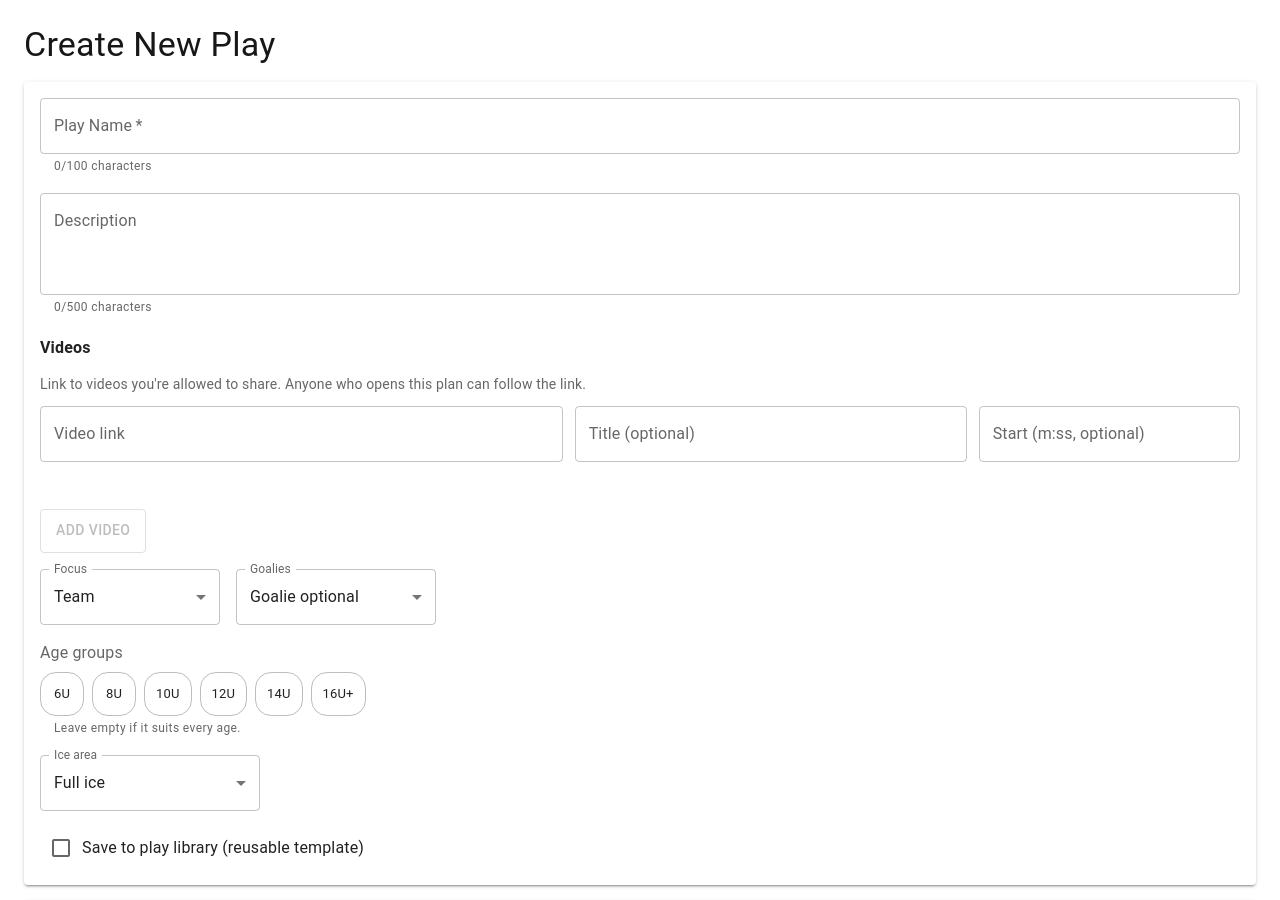
Test: PlayEditor › Save Functionality › shows success message after successful save
This screenshot has width=1280, height=900.
# Fill in form
Step 1. Type "Test Play" into the field labelled "Play Name *" → (640, 126), box [40, 98, 1240, 154]
(page scrolled)
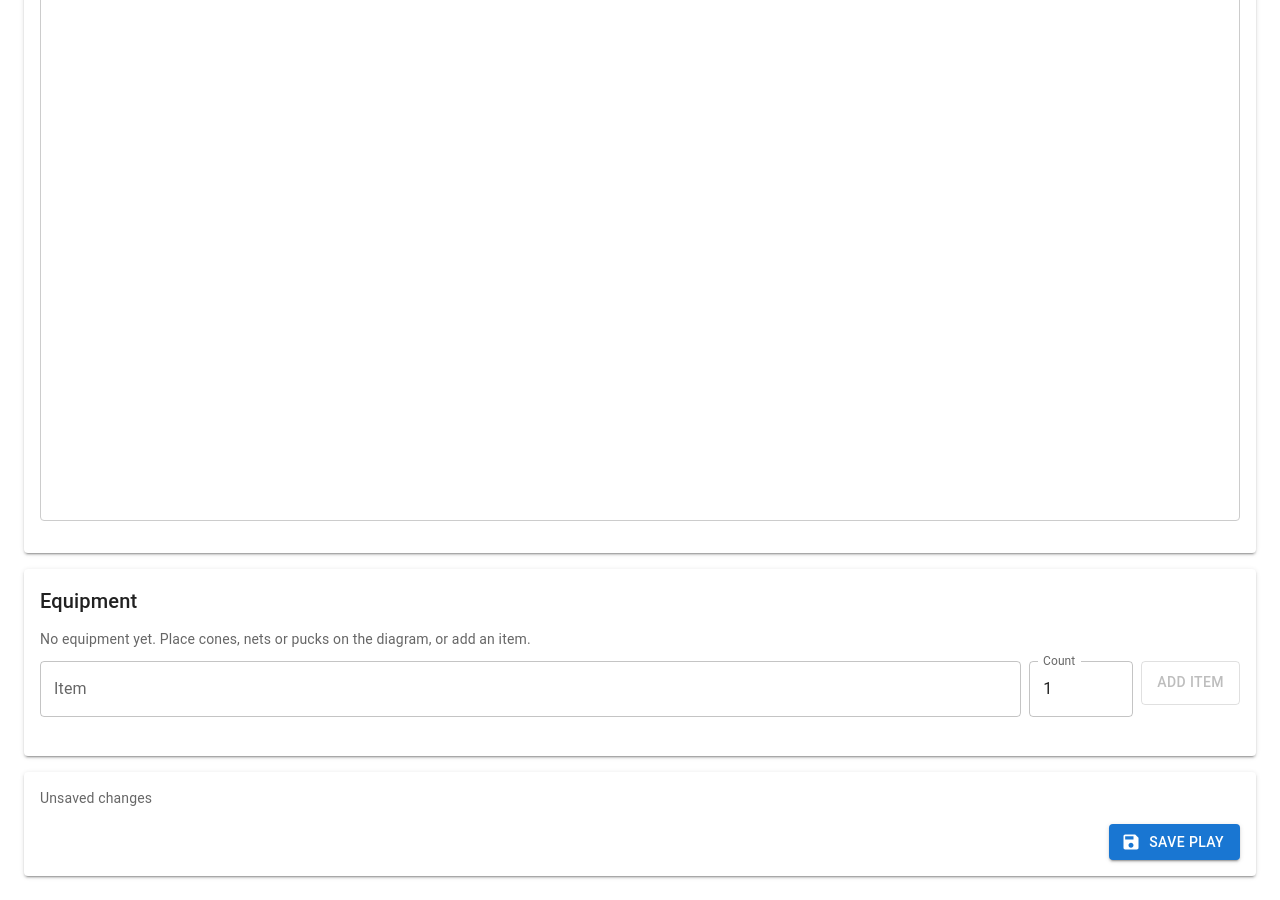
# Click save
Step 2. Click the button "Save Play" → (1175, 842), box [1109, 824, 1240, 860]
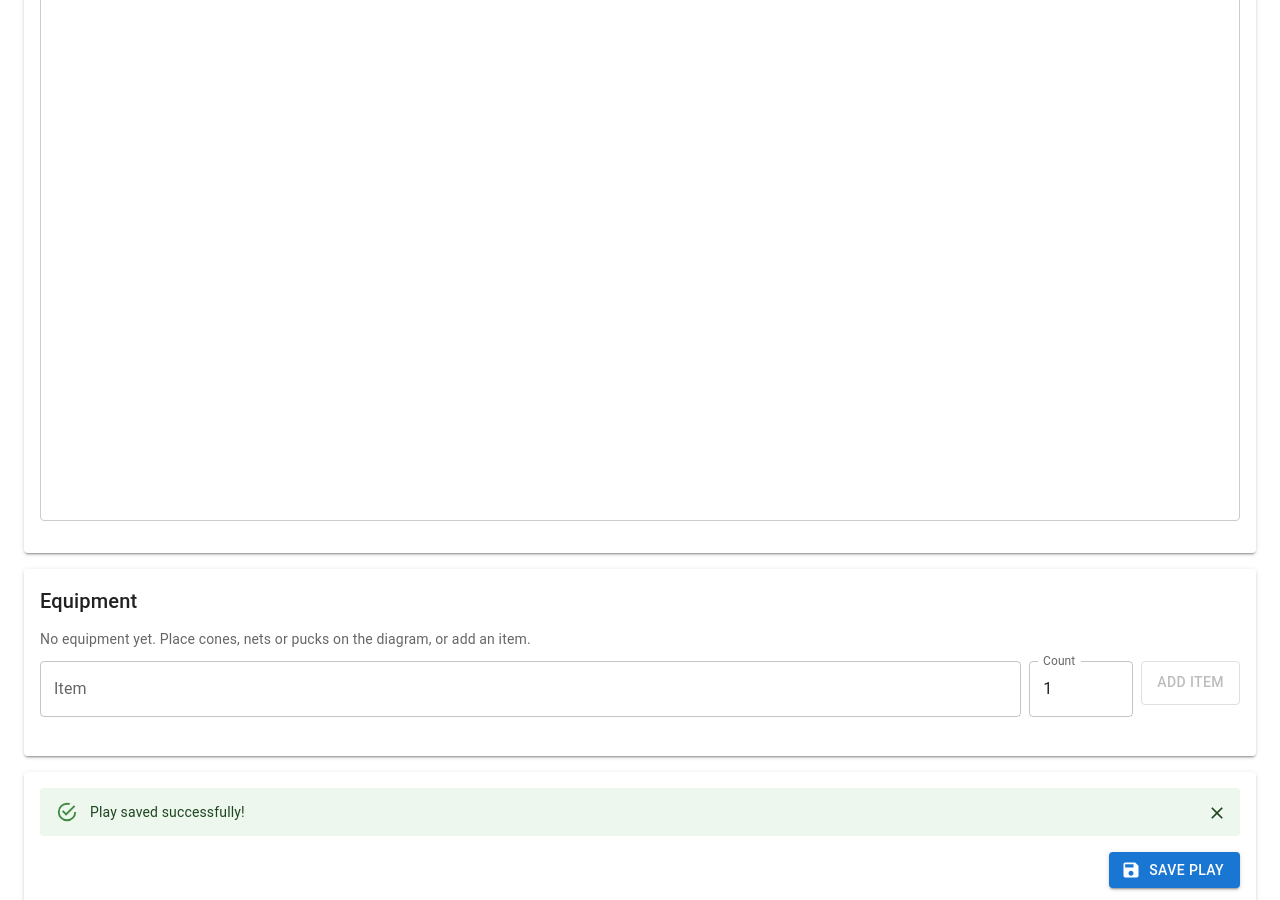
Expected: the text "Play saved successfully!" is shown, [90, 804, 245, 820]
